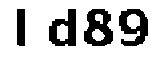8: (85, 4, 114, 48)
9: (116, 6, 151, 49)
d: (43, 5, 80, 50)
l: (7, 5, 36, 51)
